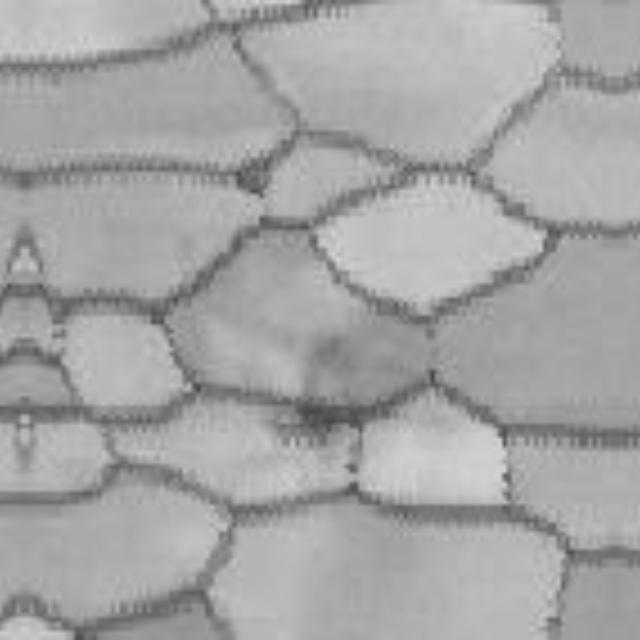good_void: (281, 334, 448, 456)
